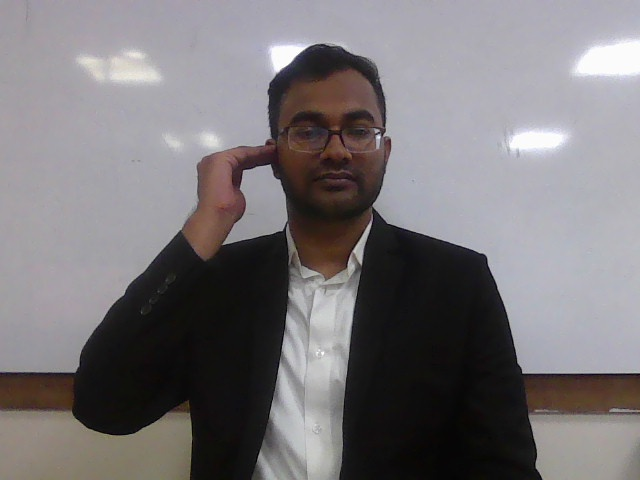Prottibondhi: (194, 144, 277, 224)
